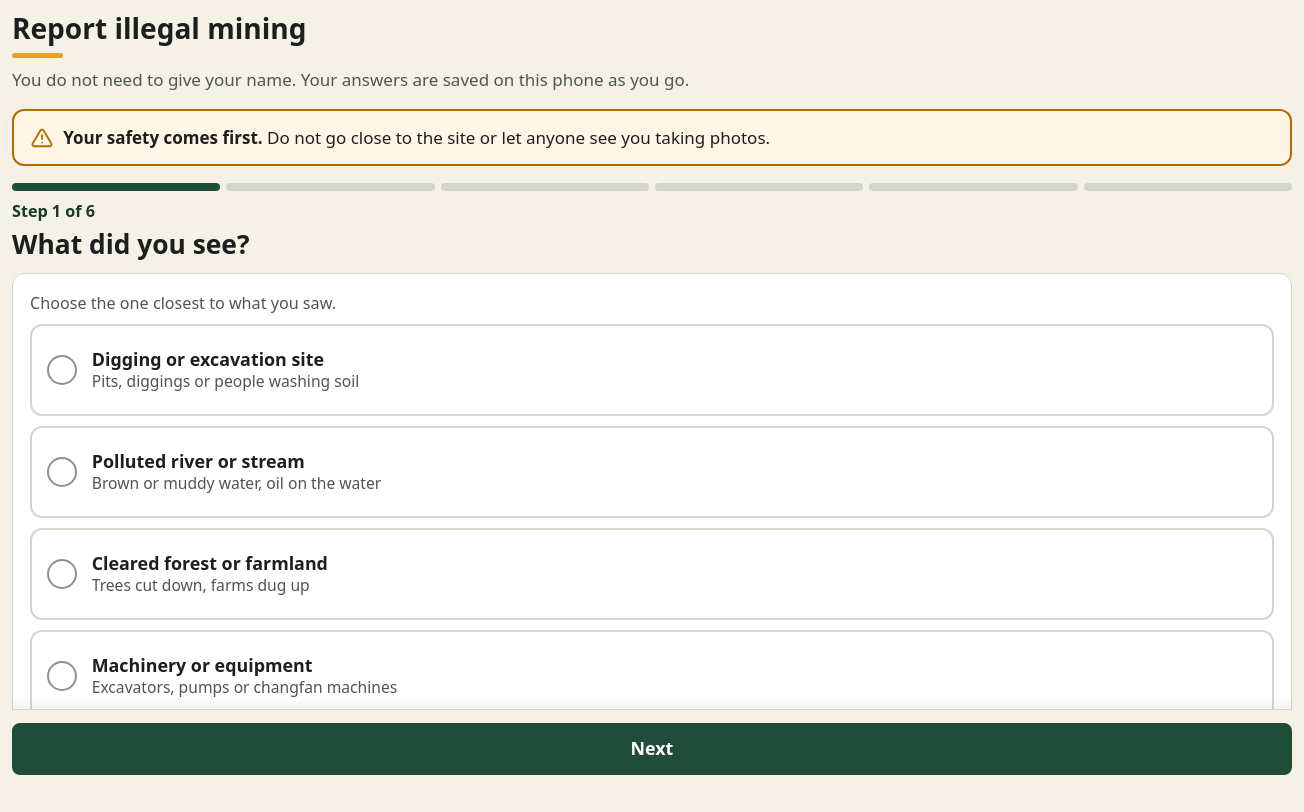
Test: ReportPage, step by step › does not move on until the step is answered, and puts the cursor on the problem
This screenshot has width=1304, height=812.
Expected: the radio button labelled "Digging or excavation site" is shown, [30, 324, 1274, 416]
Click the button "Next" at (652,749), box [12, 723, 1292, 775]
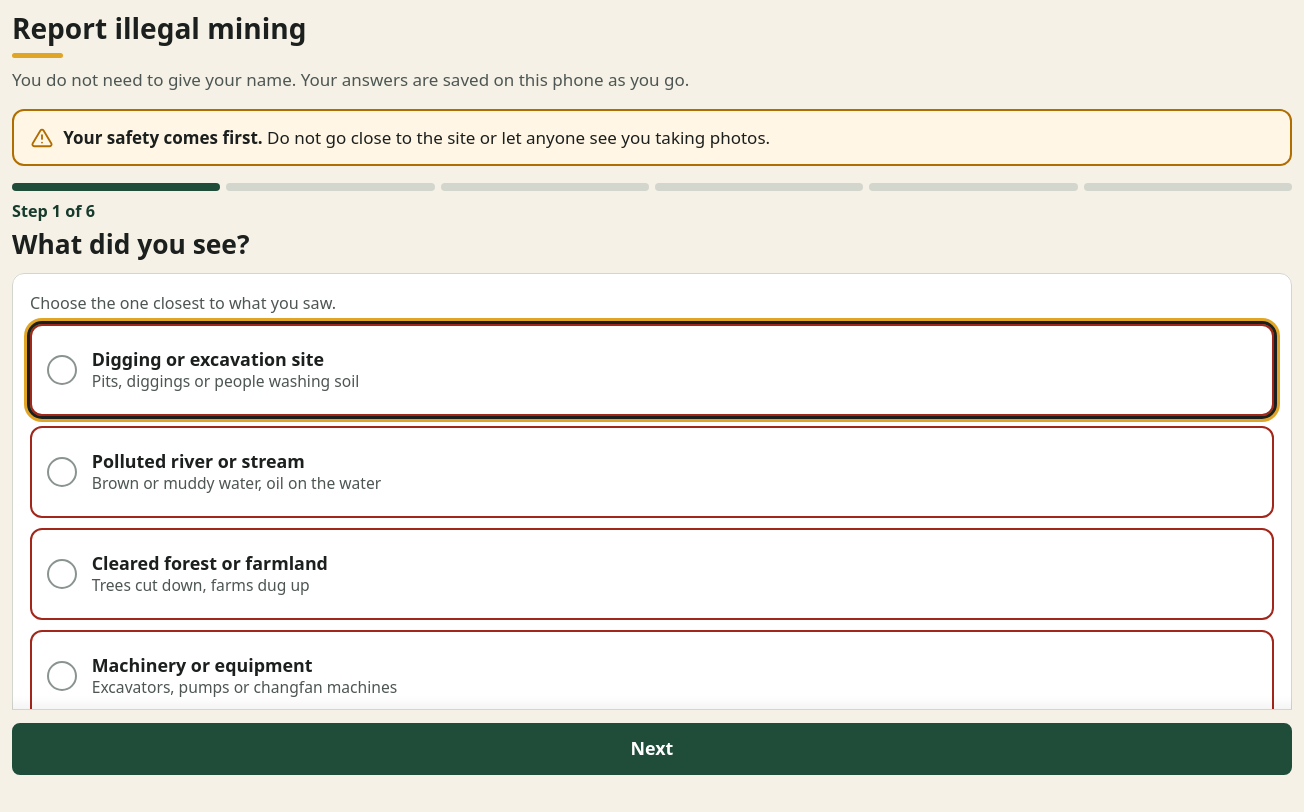
Click the radio button labelled "Digging or excavation site" at (208,359), box [30, 324, 1274, 416]
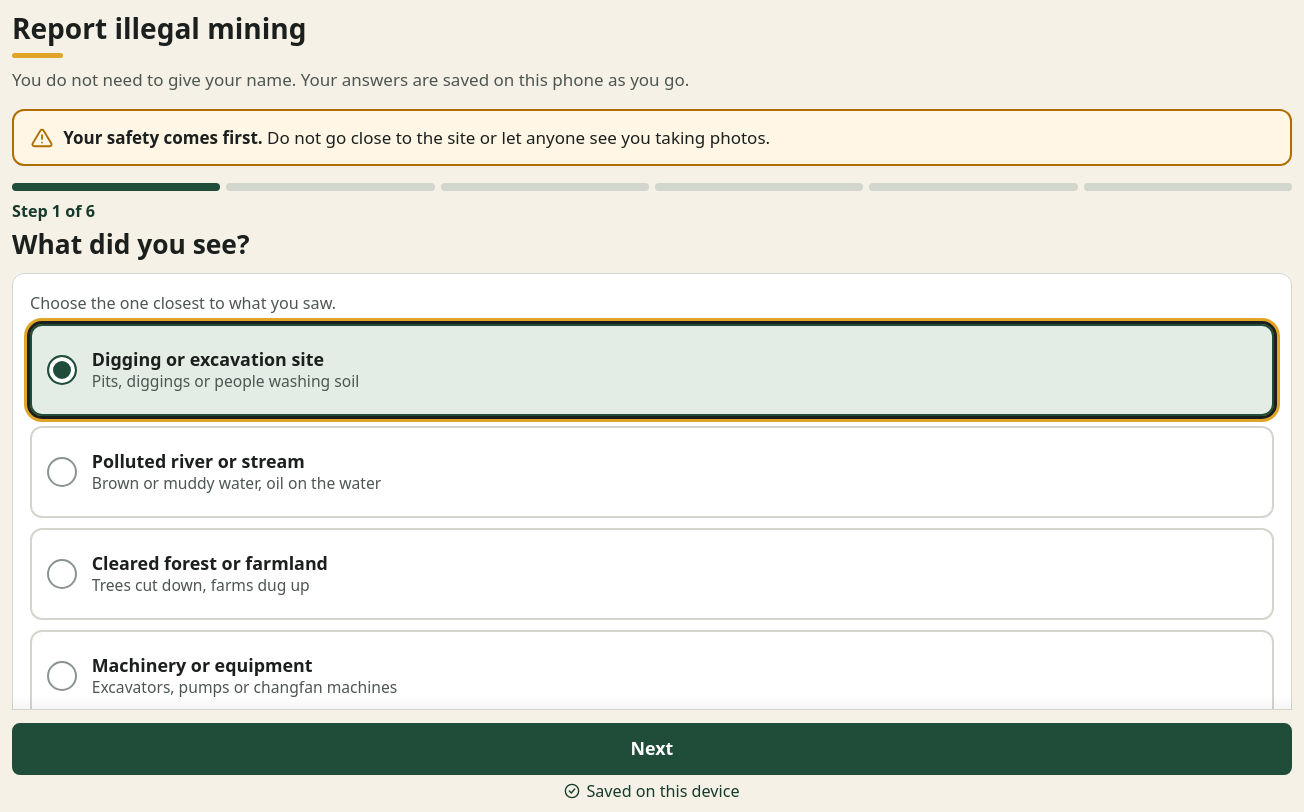
Click the button "Next" at (652,749), box [12, 723, 1292, 775]
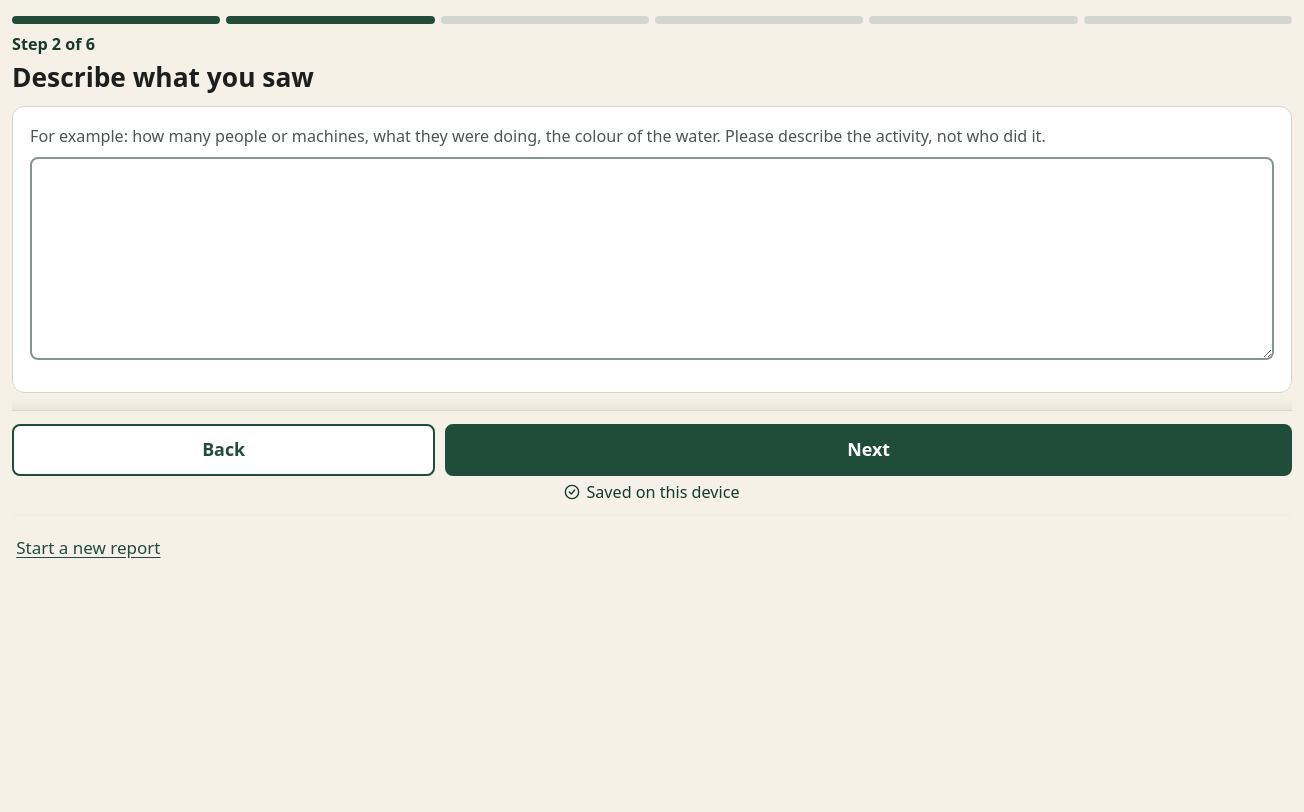
Type "pits" into the text box named "Describe what you saw" at (652,259), box [30, 157, 1274, 360]
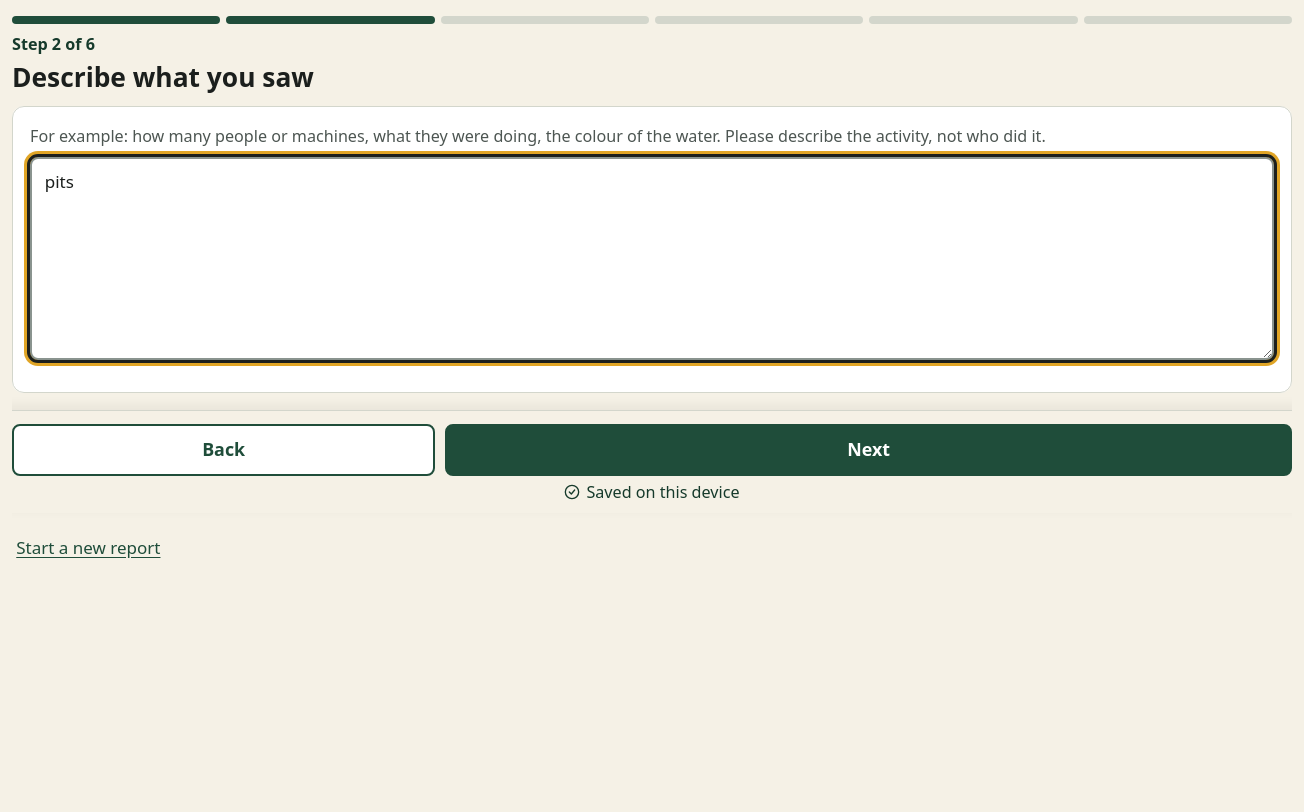
Click the button "Next" at (869,450), box [446, 424, 1292, 476]
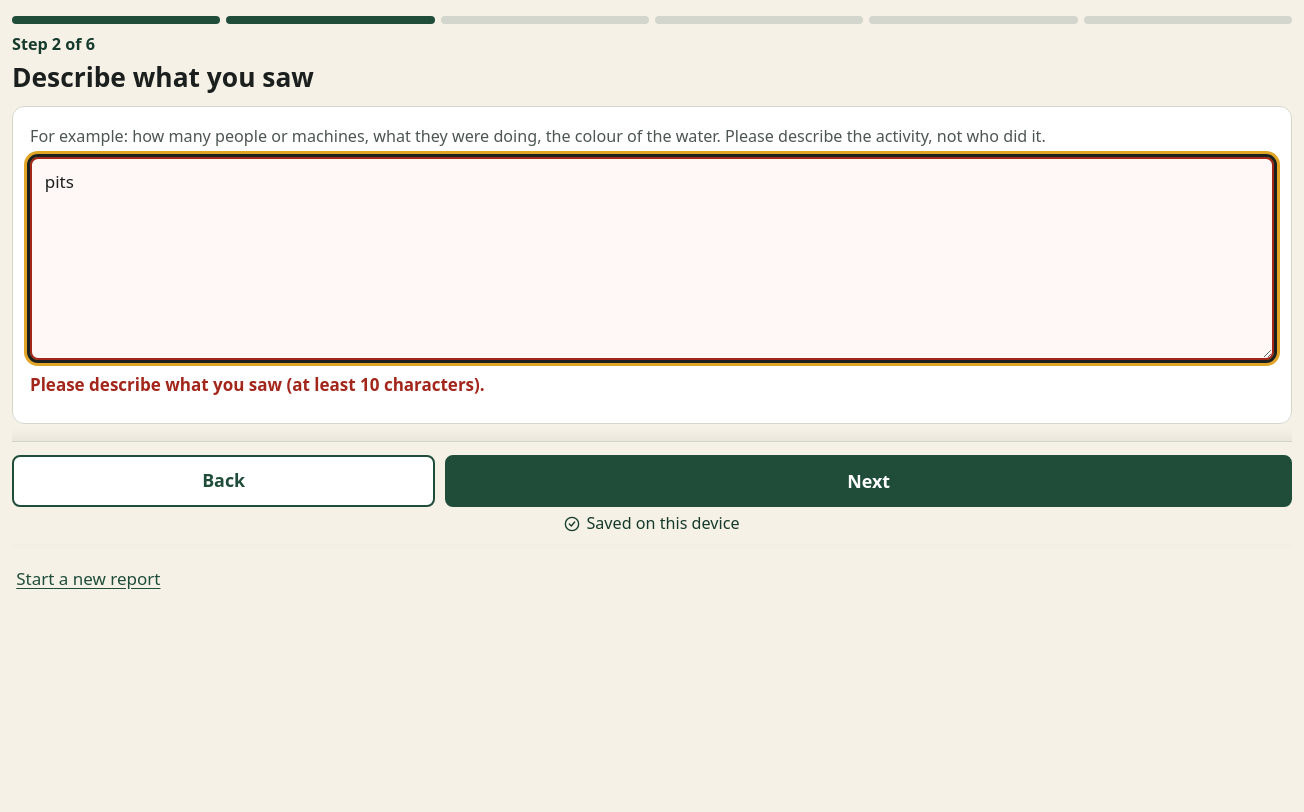
Result: the text "Please describe what you saw (at least 10 characters)." is shown at [30, 374, 485, 396]
